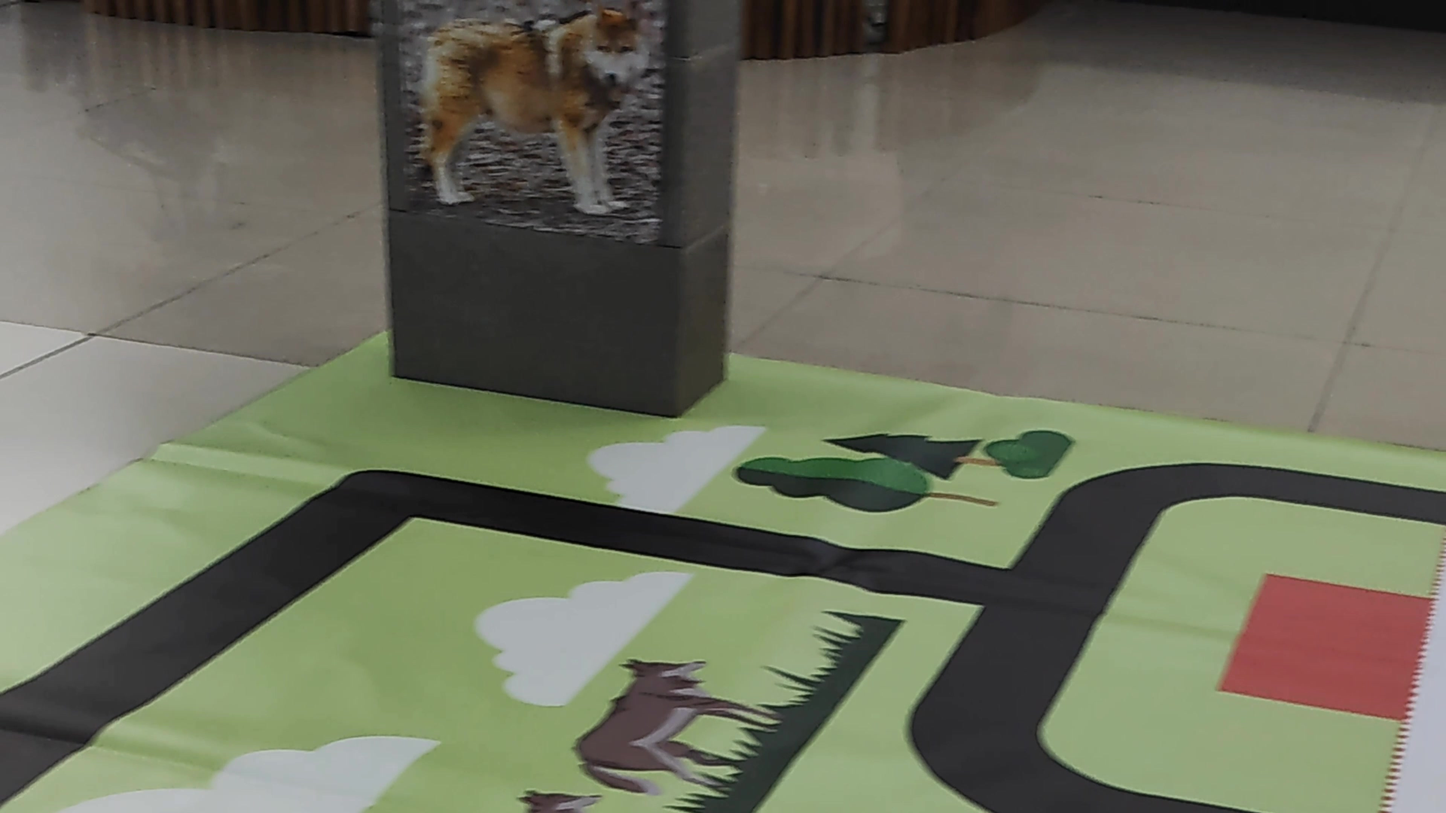wolf: (415, 18, 653, 222)
